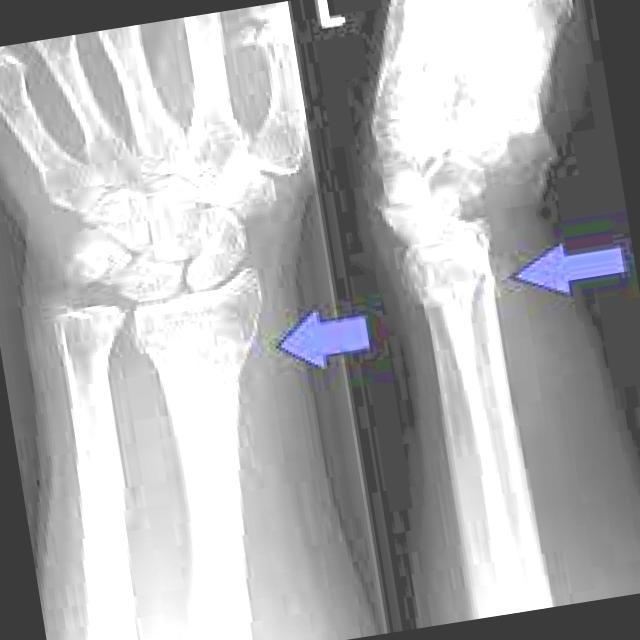Impact Fracture: (152, 338, 244, 383)
